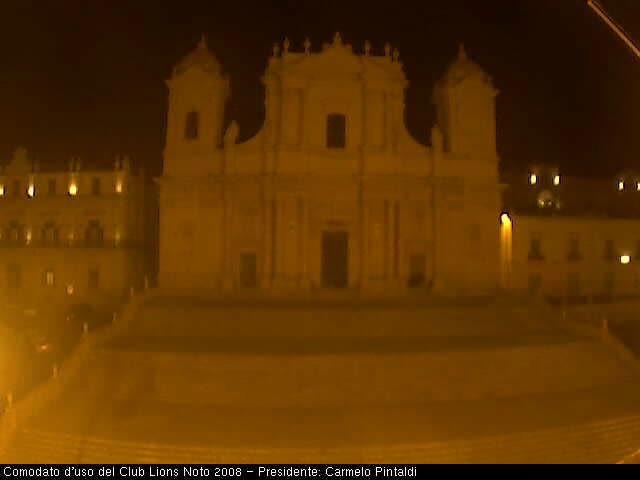person: (409, 275, 418, 290), (429, 278, 434, 296), (418, 275, 424, 289)
